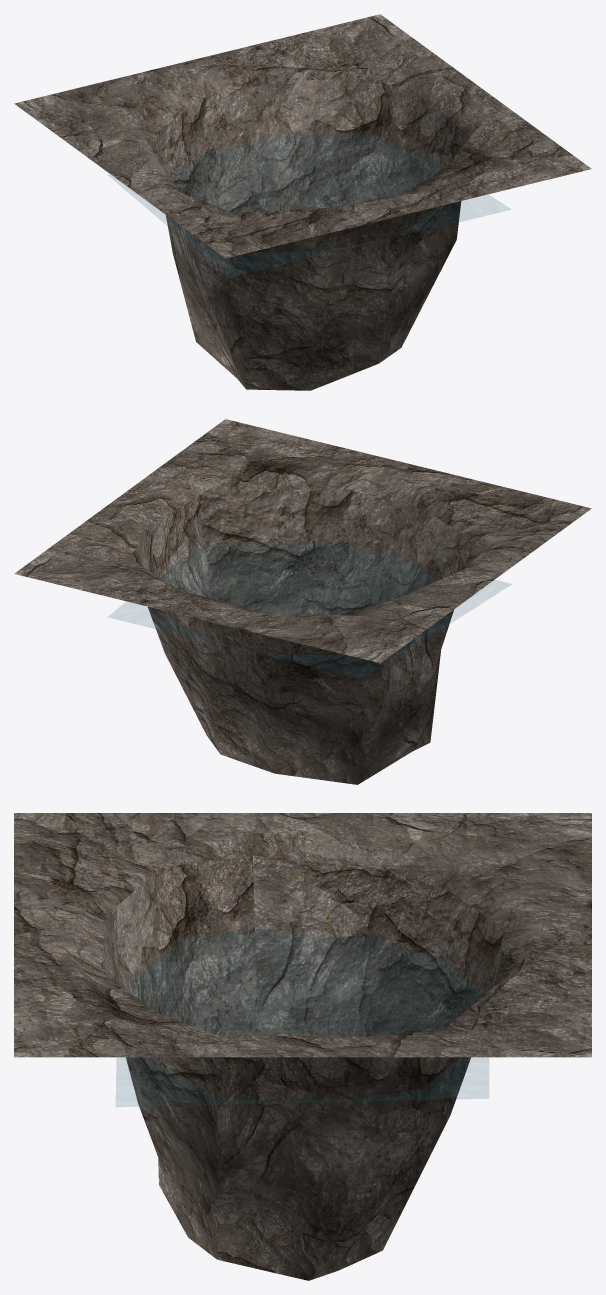
The model's file is water zero stone.FBX.
The picture shows the model from 3 angles, top to bottom: view 1: azimuth 30°, elevation 25°; view 2: azimuth 150°, elevation 25°; view 3: azimuth 270°, elevation 25°; orthographic projection. The views are drawn at different scales.
Parts seen in each view (by area): view 1: 003; view 2: 003; view 3: 003.
Boxes of the visible parts, left/top/right/bottom form: 003: left=14, top=14, right=591, bottom=390; 003: left=14, top=419, right=591, bottom=784; 003: left=14, top=813, right=591, bottom=1280.
Bounding box in the file's own units: 100 × 53.43 × 100.
Materials: 2 (2 with a texture image).
